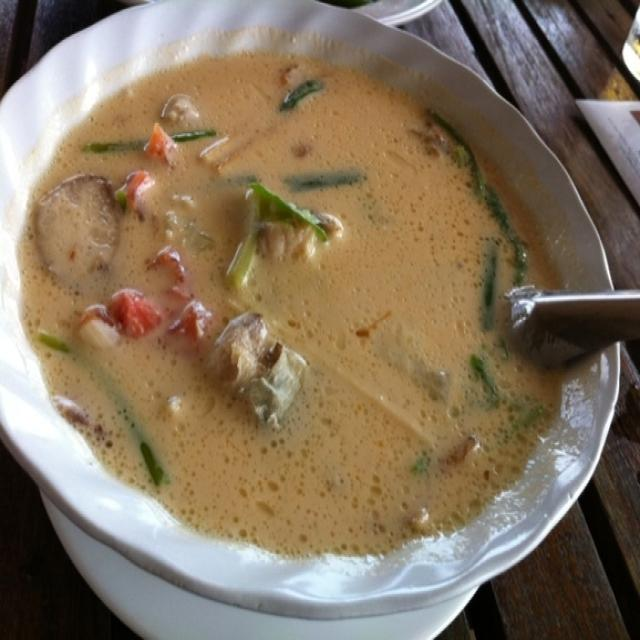汤锅炖物: (20, 27, 601, 594)
